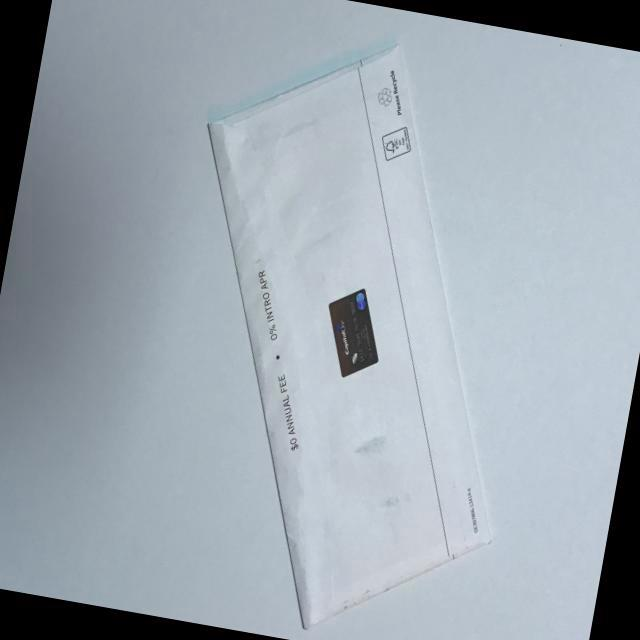paper: (118, 5, 582, 640)
